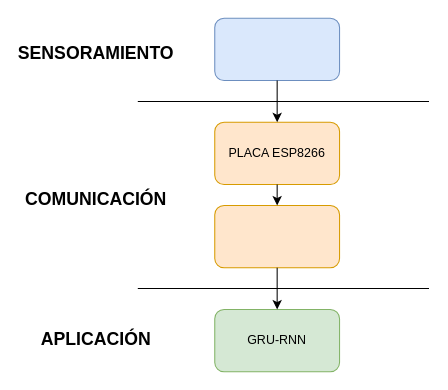
Image size: 448x390. Some labels were removed from this diagram. The box of each missing label's shape, as (x1, y1, x2, y2) in pixels:
MQTT - Mosquitto: (214, 204, 340, 268)
SENSOR DE PROXIMIDAD: (214, 17, 340, 81)
